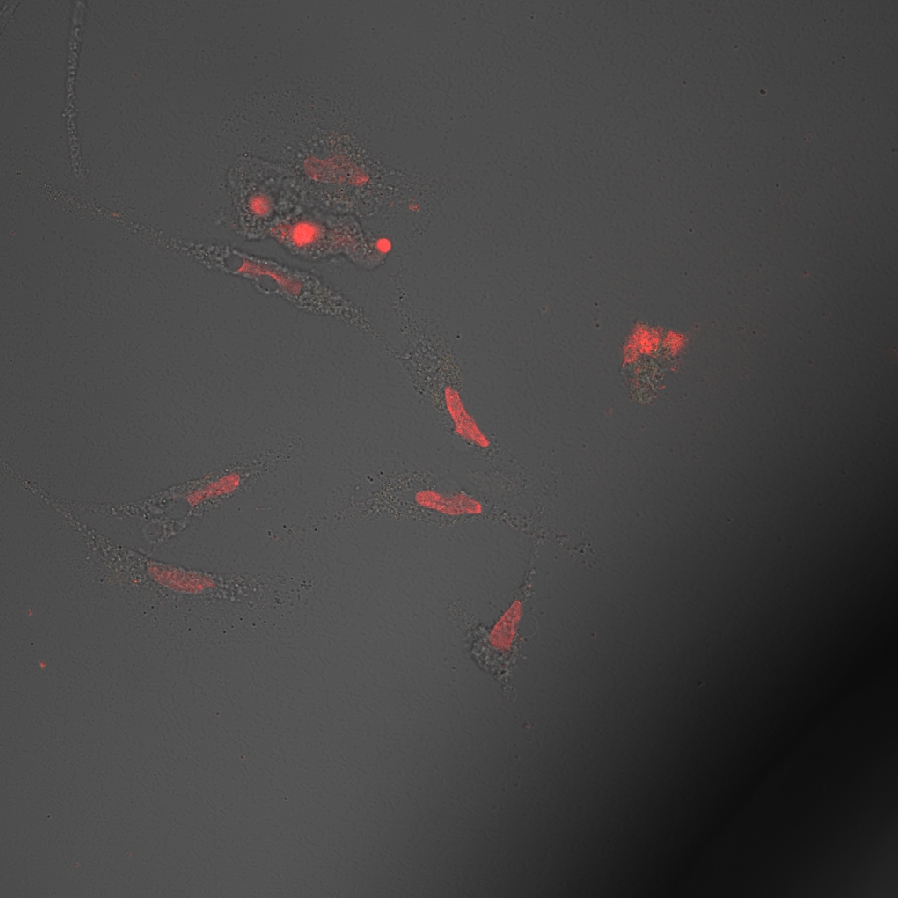dead: (218, 135, 449, 267), (145, 236, 376, 328), (392, 329, 524, 464), (333, 471, 586, 540), (79, 453, 285, 536), (76, 547, 309, 608), (606, 304, 699, 436), (454, 559, 541, 689)
